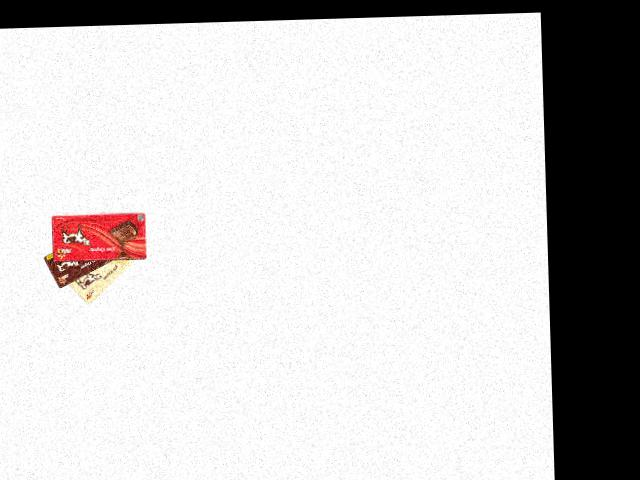chocolate: (57, 250, 145, 306)
